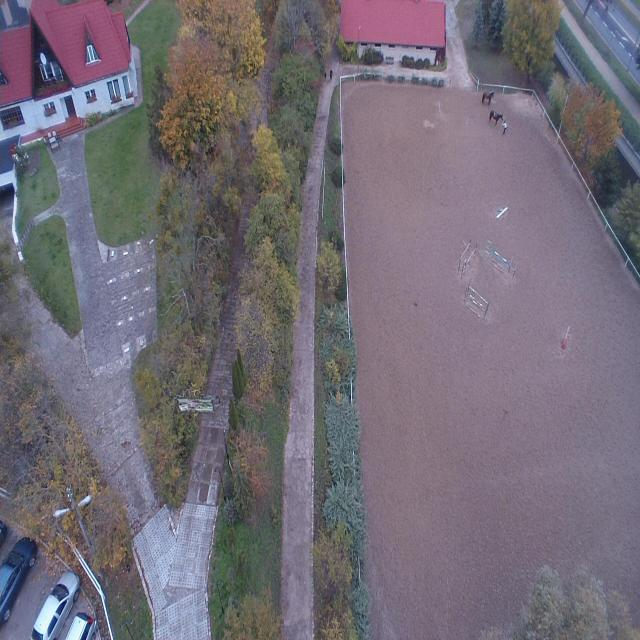p3rson: (502, 121, 507, 135), (330, 69, 332, 81), (324, 72, 326, 81)
